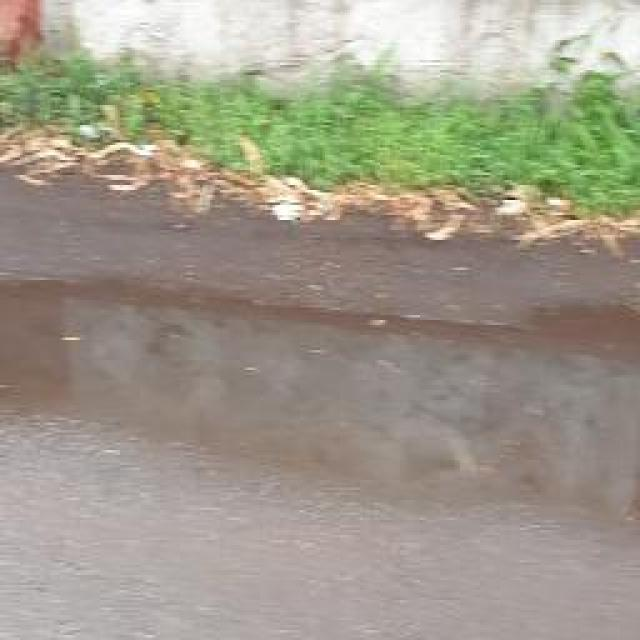stagnation: (0, 264, 640, 526)
